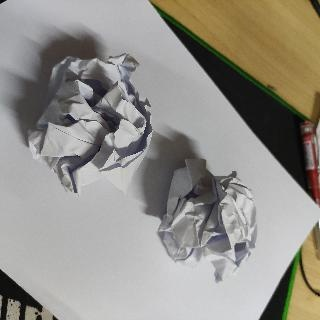8/可回收垃圾/纸: (27, 53, 154, 198), (157, 157, 259, 283)
